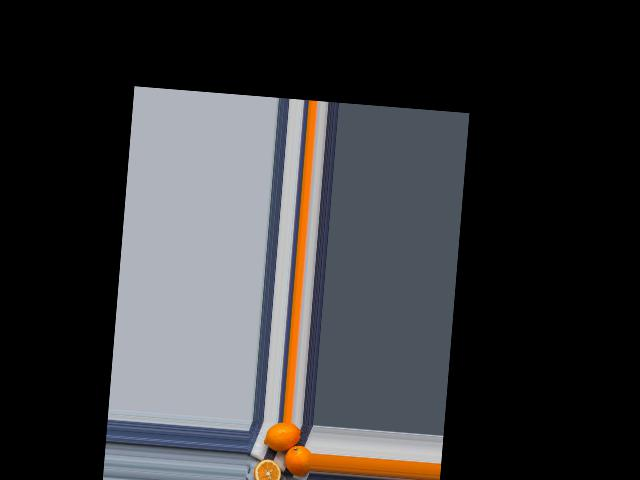lemon: (284, 444, 312, 473)
